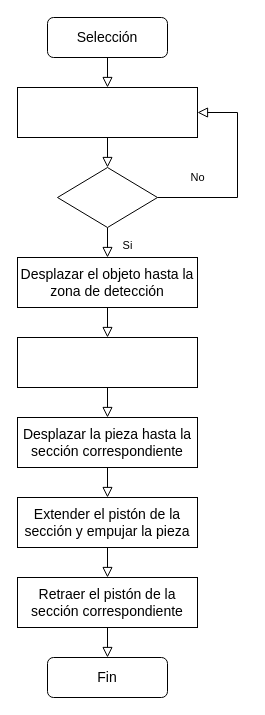
Some shapes in this 265 by 715 pixel diagram are drawn without their labels. Here are the shapes that lost their labels. From the top down, the centre of each, then its label:
At [107,112]: "Mantener cinta en reposo".
At [107,197]: "se dejo la pieza?".
At [107,362]: "Clasificar la pieza con los valores de los sensores".
